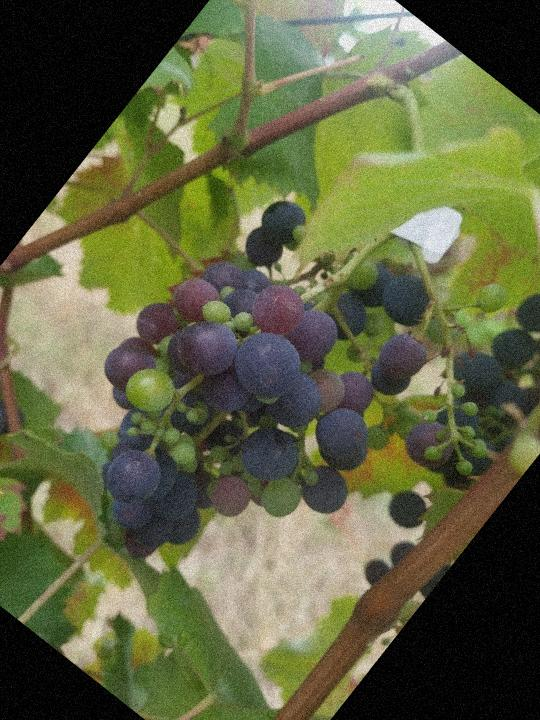grape: (15, 117, 514, 643)
